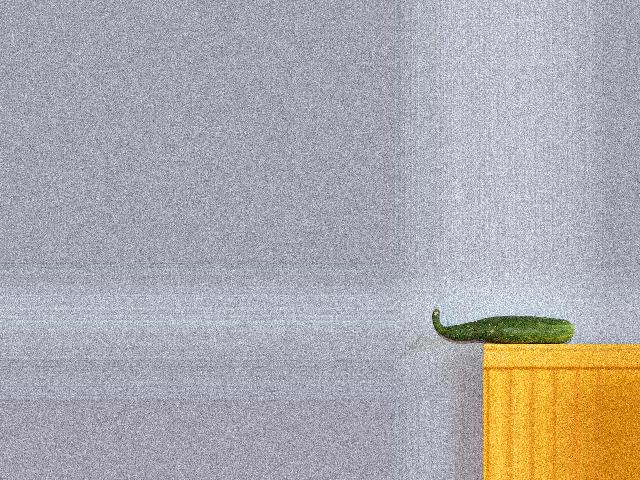cucumber: (431, 308, 573, 344)
